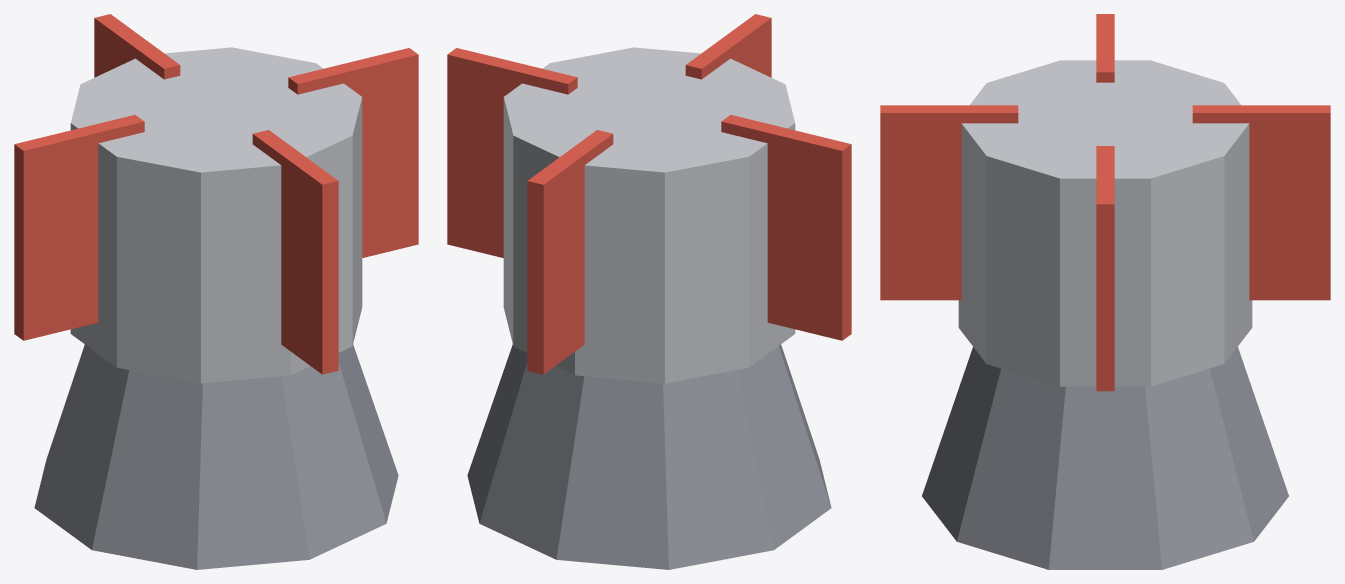
Rendered from item_engine.glb.
3 views of the same model, side by side, from view 1: azimuth 30°, elevation 25°; view 2: azimuth 150°, elevation 25°; view 3: azimuth 270°, elevation 25° (orthographic).
Parts seen in each view (by area): view 1: item_engine; view 2: item_engine; view 3: item_engine.
Part boxes in pixels (left/top/right/bottom): item_engine: left=14, top=14, right=418, bottom=569; item_engine: left=447, top=14, right=851, bottom=569; item_engine: left=880, top=14, right=1330, bottom=569.
Bounding box in the file's own units: 0.98 × 0.955 × 0.98.
